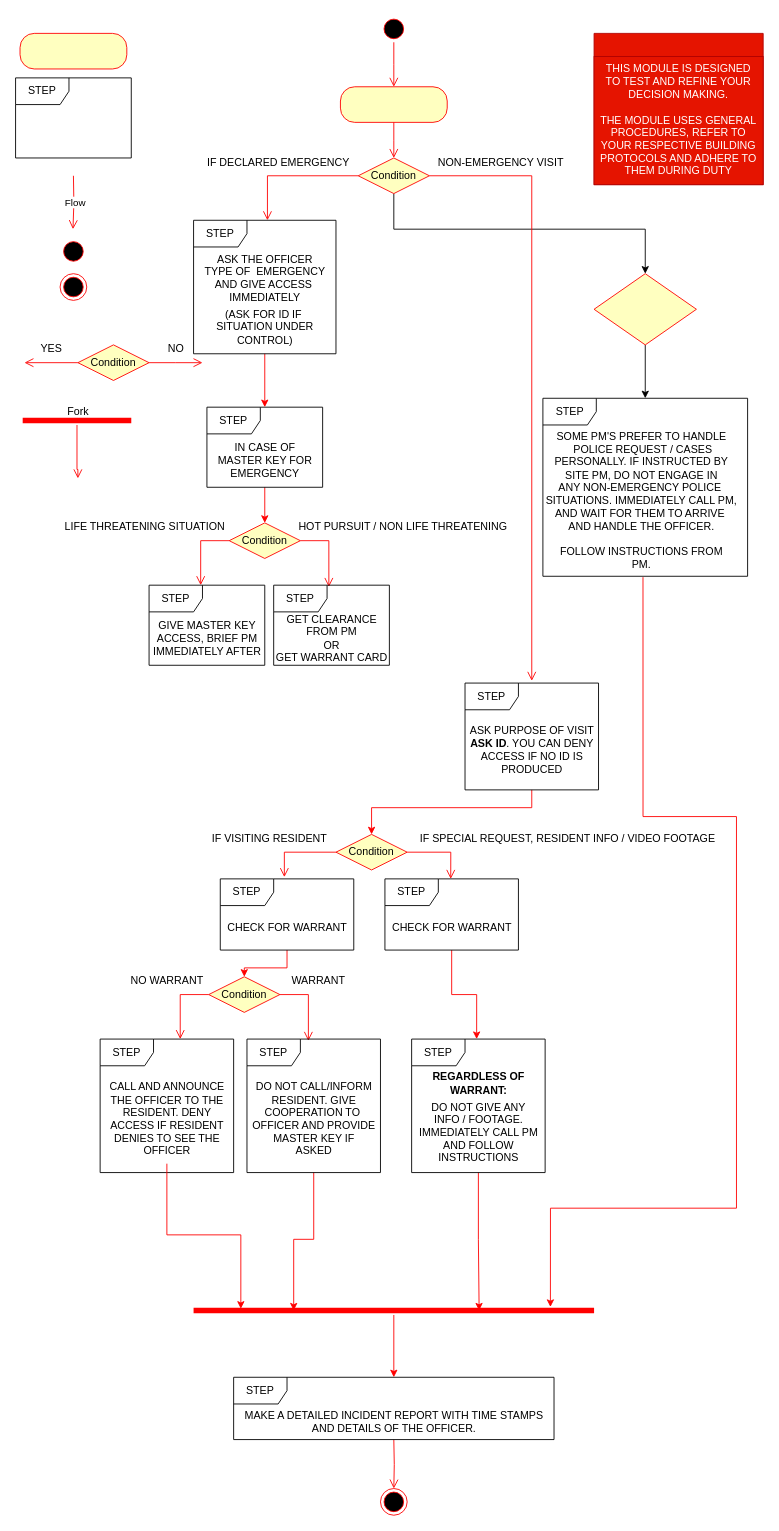
Image size: 779x1531. Some labels were removed from this diagram. Here are the shapes that lost their labels. From the top down, the box of each, then its label:
(19, 32, 127, 69): Situation Context
(340, 86, 447, 122): GAS LEAKAGE
(593, 32, 763, 185): DISCLAIMER
(59, 237, 87, 265): Start Point
(59, 273, 87, 300): End Point
(593, 273, 696, 345): SPECIAL CONDITION
